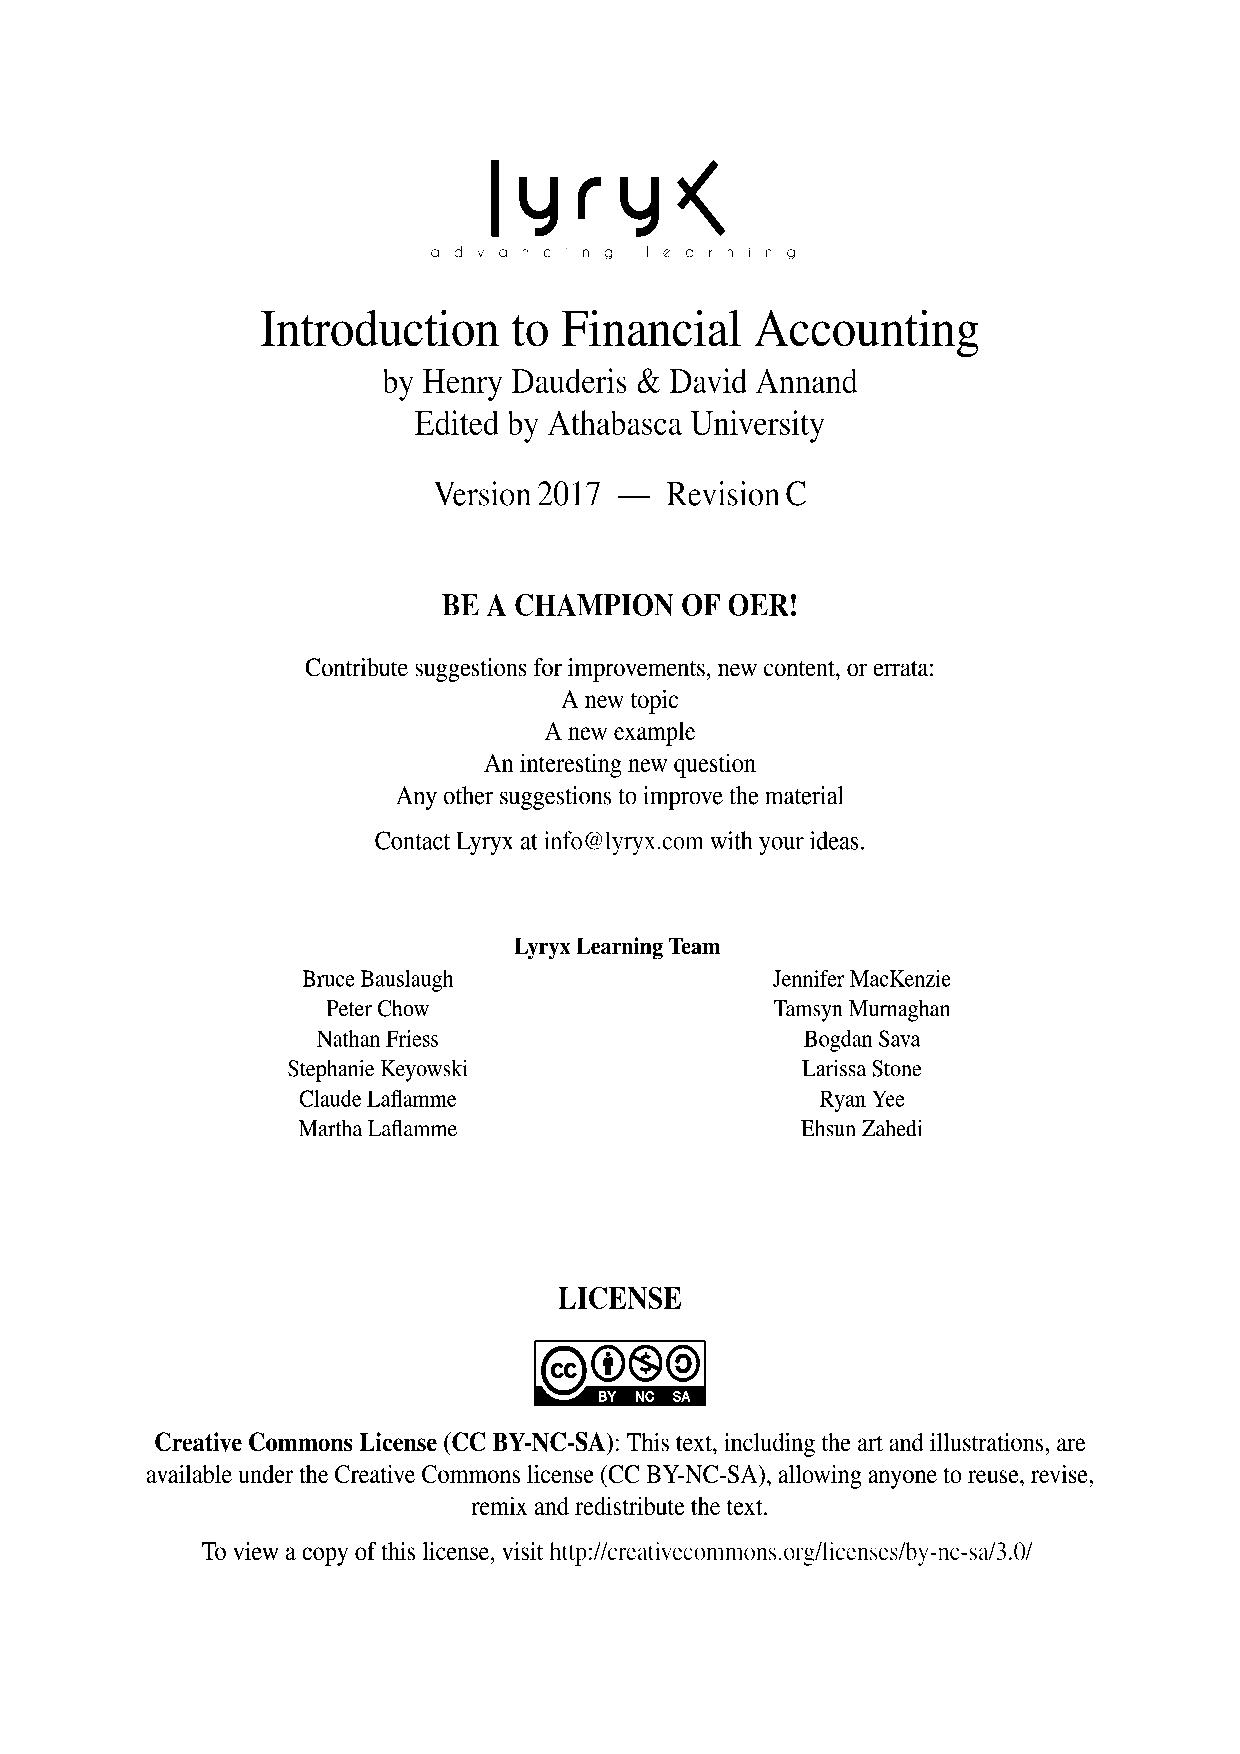author: (377, 365, 860, 403)
title: (254, 306, 980, 360)
